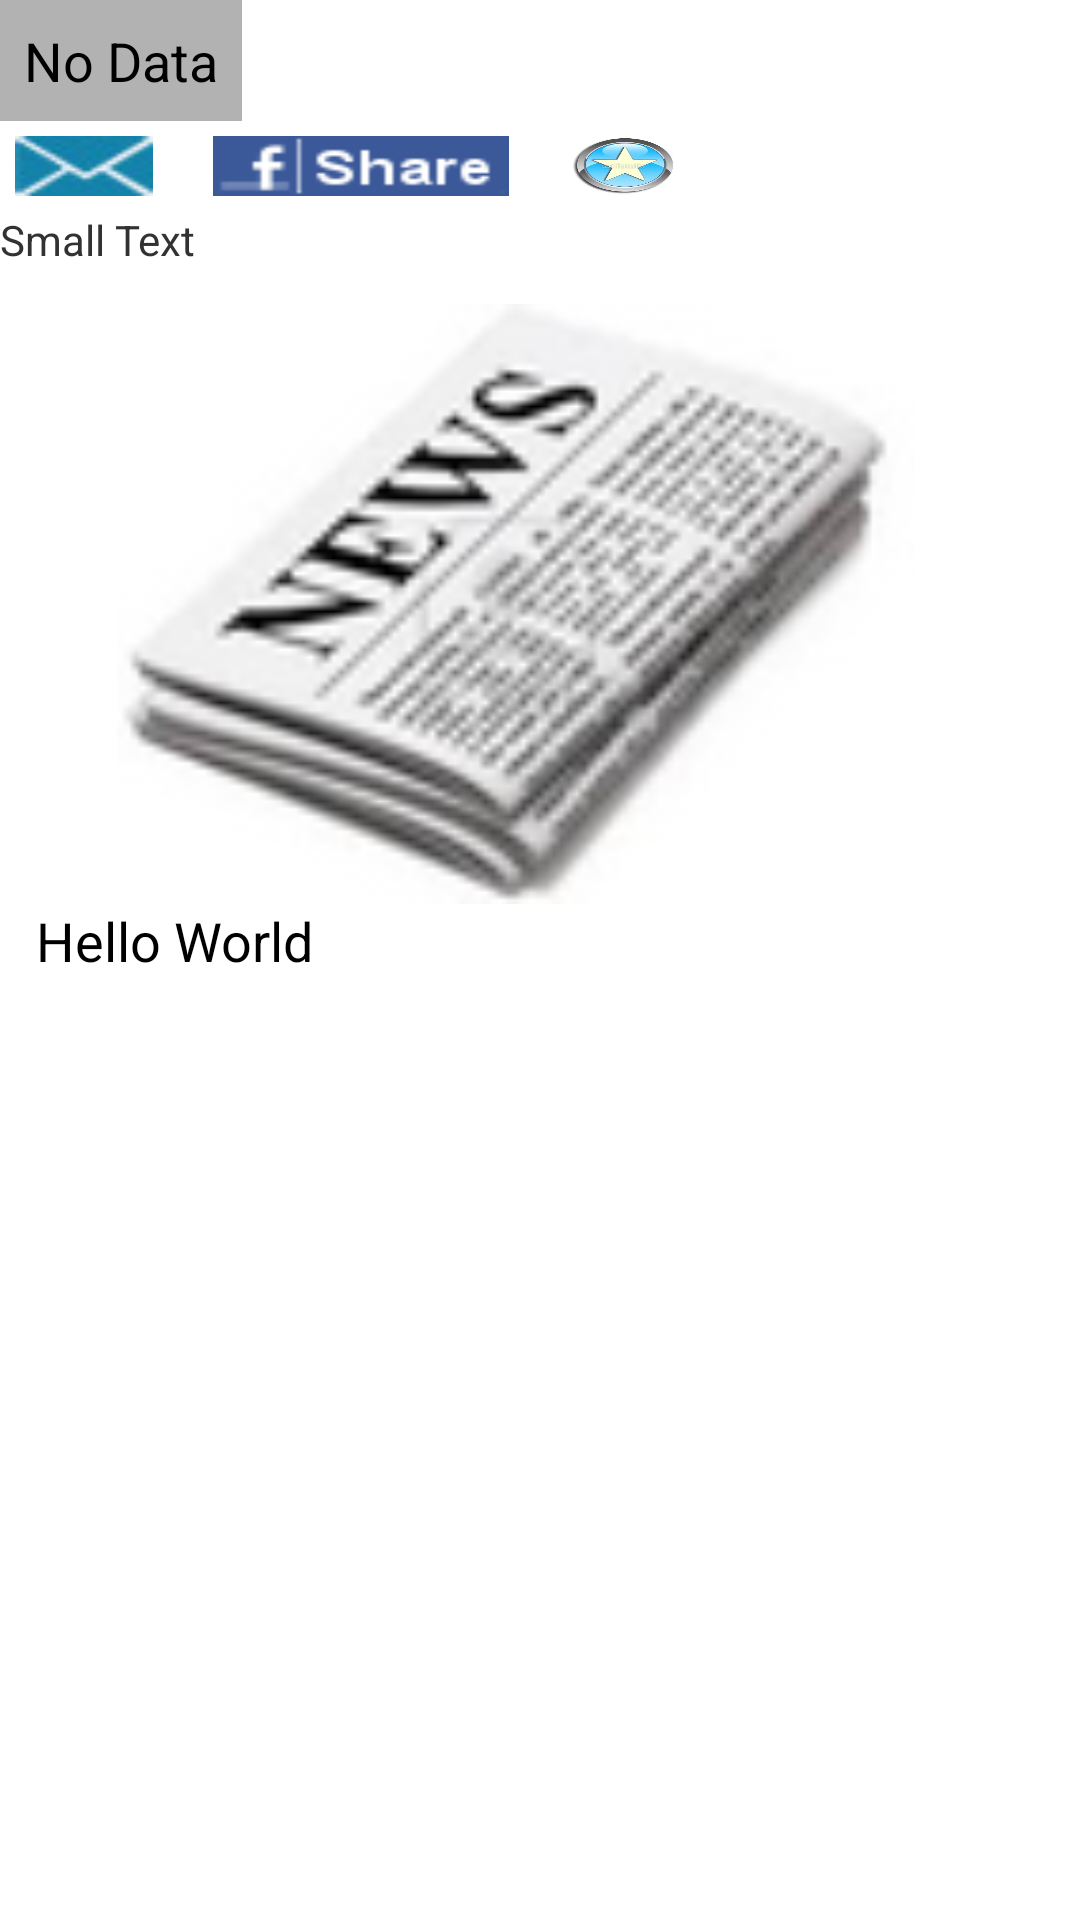

Where icons sit on this 1080 × 1920 app screen, as (x1, y1, x2, y2):
email: (15, 136, 153, 196)
fav: (574, 138, 673, 193)
